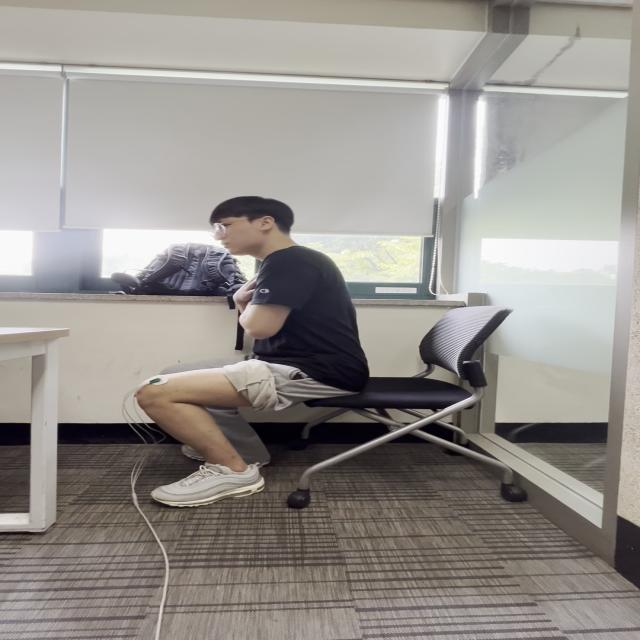squat: (118, 360, 346, 507), (215, 261, 376, 398), (235, 346, 386, 410)
